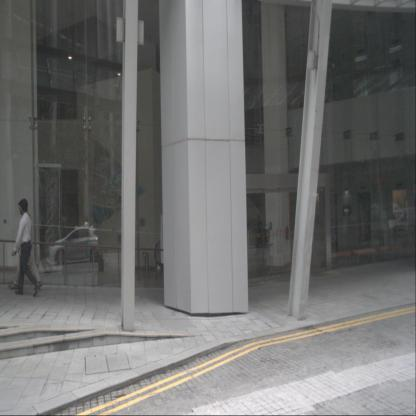human-pedestrian-adult: (8, 199, 43, 290), (11, 198, 41, 297)
vehicle-car: (50, 222, 104, 263)
